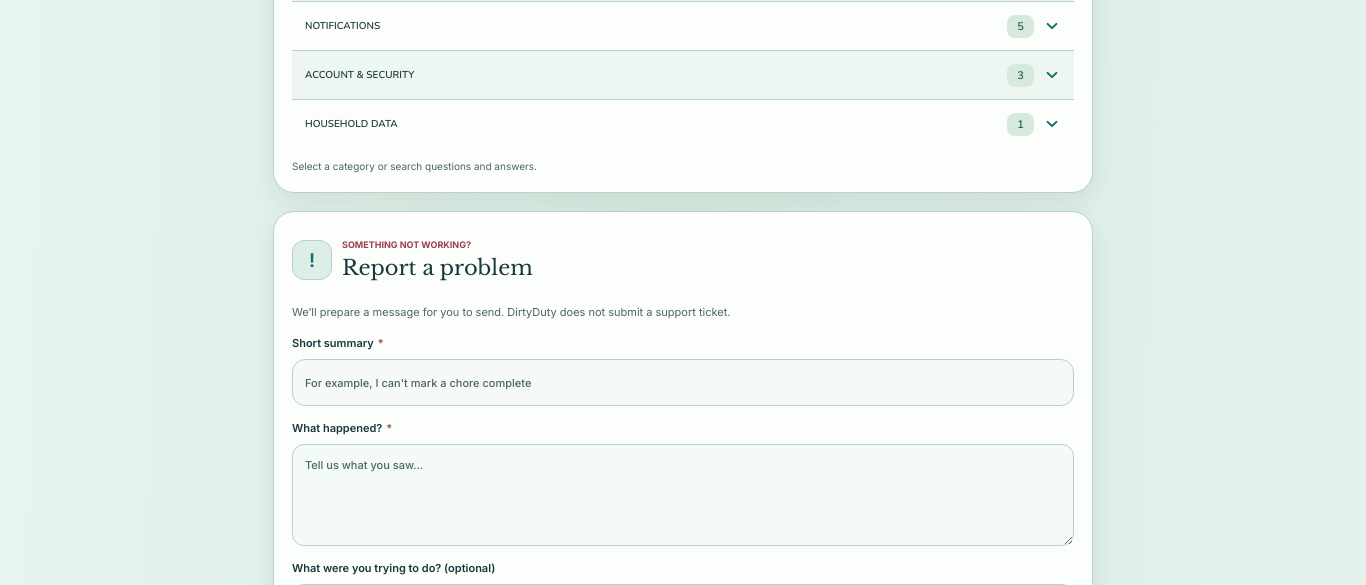
Scenario: help and support screen › validates problem fields and prepares a safe diagnostic email and copy message
(page scrolled)
Type "Chore completion failed" into the field labelled "Short summary". click: (683, 382)
box: [292,359,1074,406]
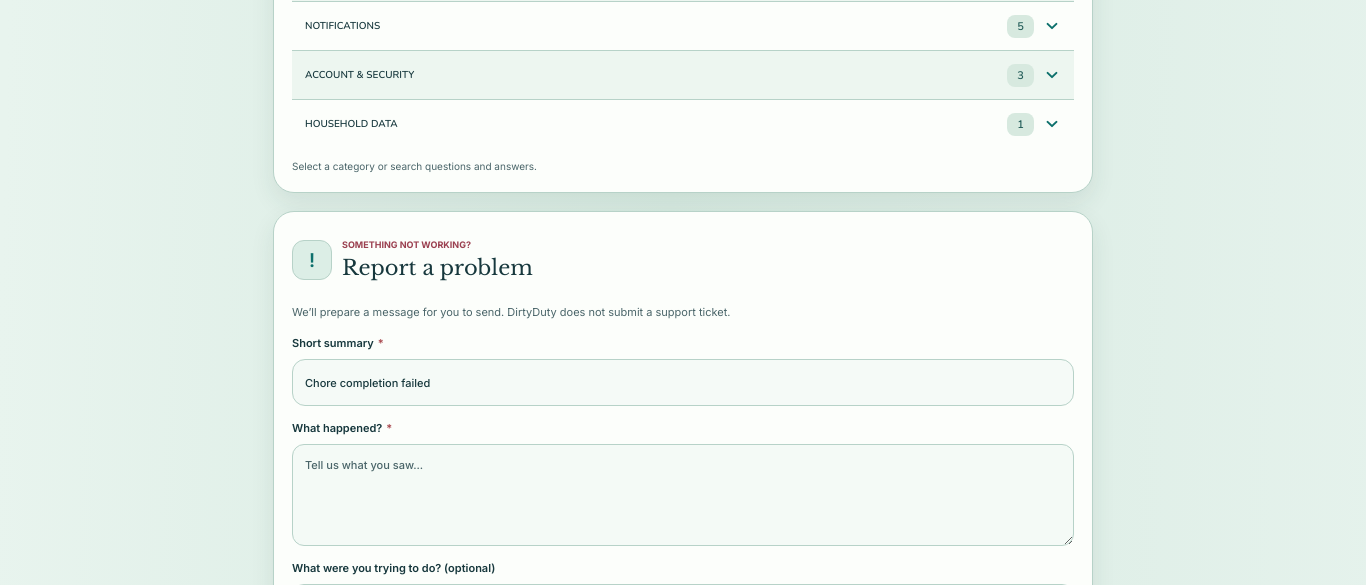
Type "The chore showed an error." into the text box labelled "What happened?". click: (683, 495)
box: [292,444,1074,546]
(page scrolled)
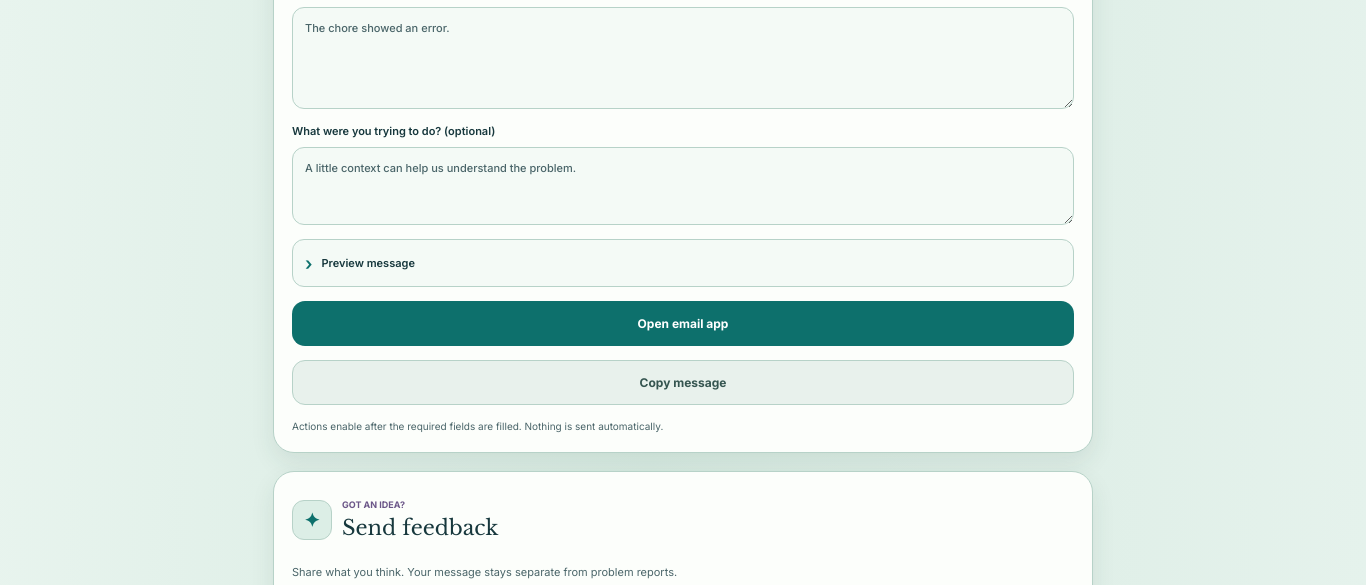
Click the button "Copy message". click: (683, 382)
box: [292,360,1074,405]
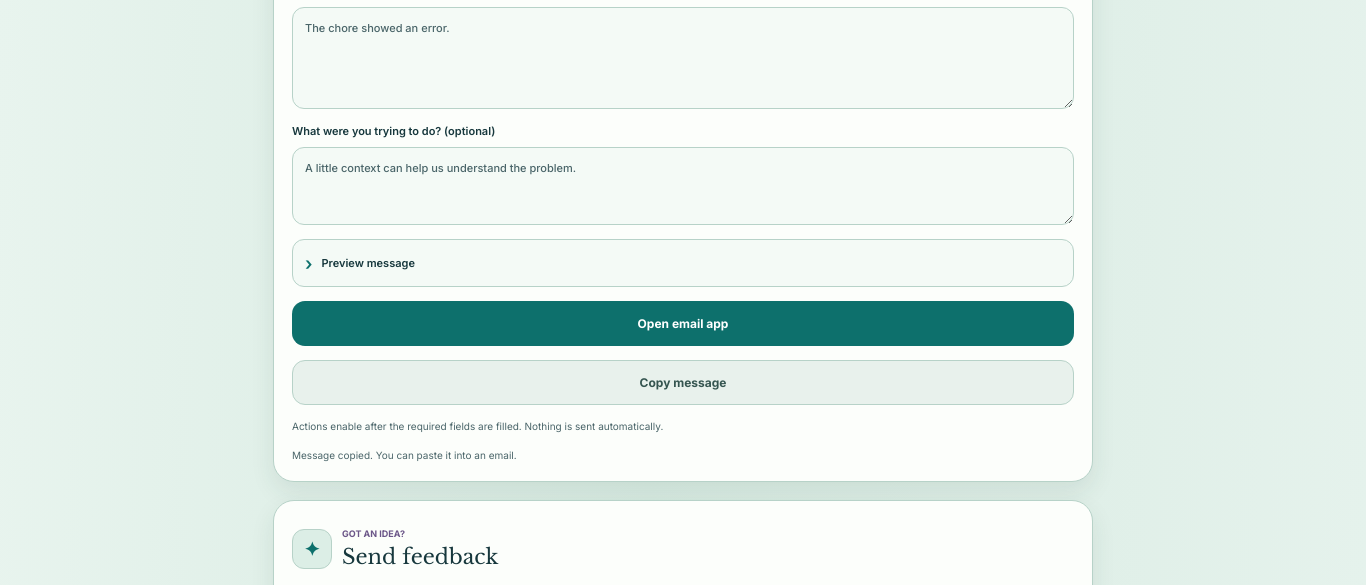
Now the message shows "Message copied", box [292,449,517,461]
